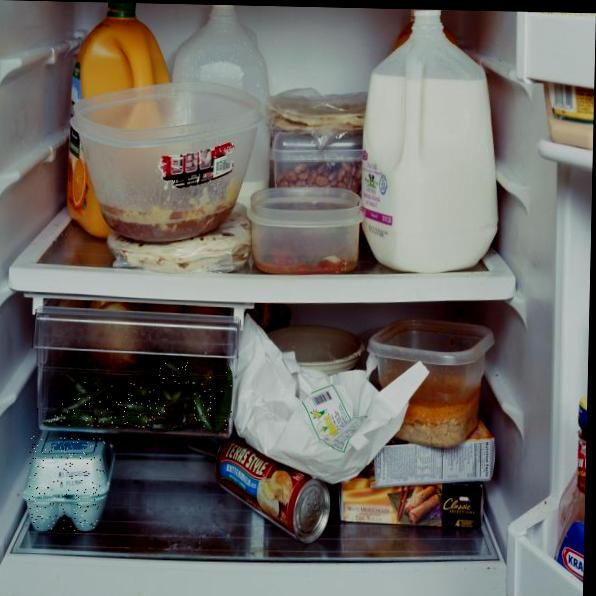eggs: (28, 436, 105, 531)
green chilies: (58, 381, 113, 412), (189, 371, 213, 430), (214, 370, 233, 431), (95, 412, 156, 430), (115, 398, 171, 417), (158, 362, 189, 389), (45, 412, 93, 427), (118, 383, 154, 399)
